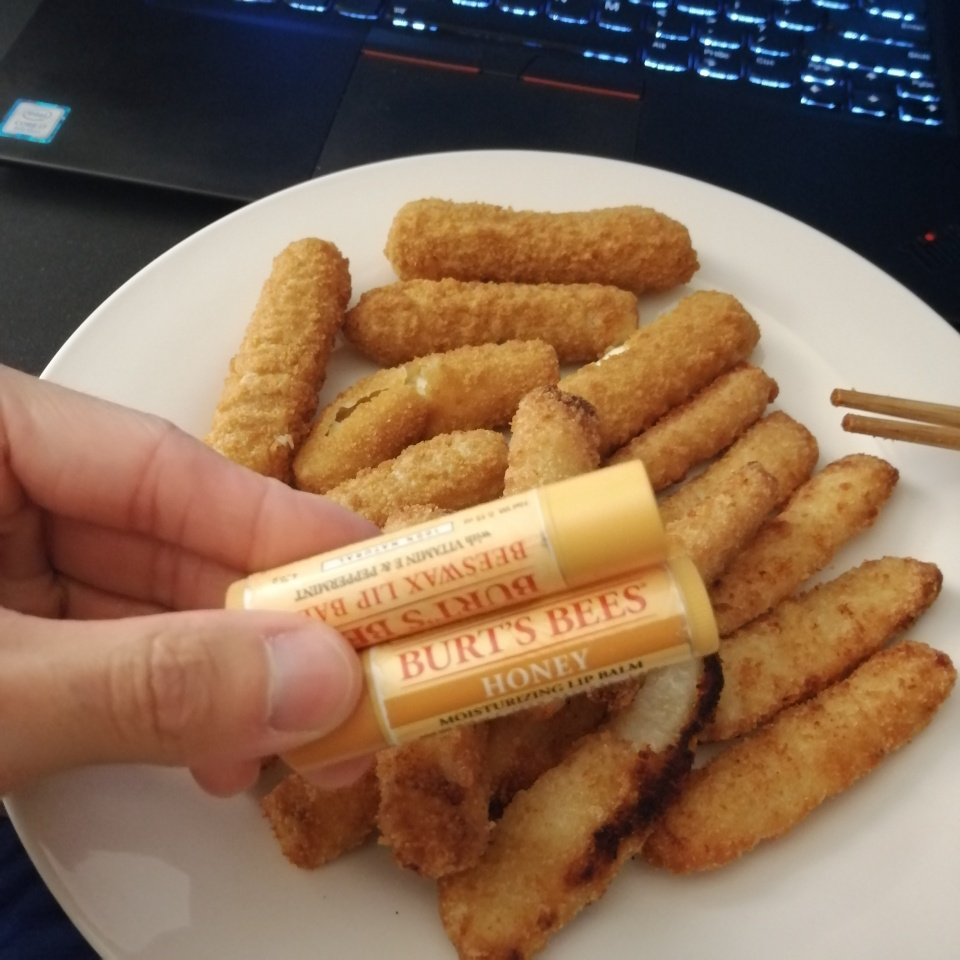chapstick: (276, 555, 720, 771), (224, 459, 669, 650)
